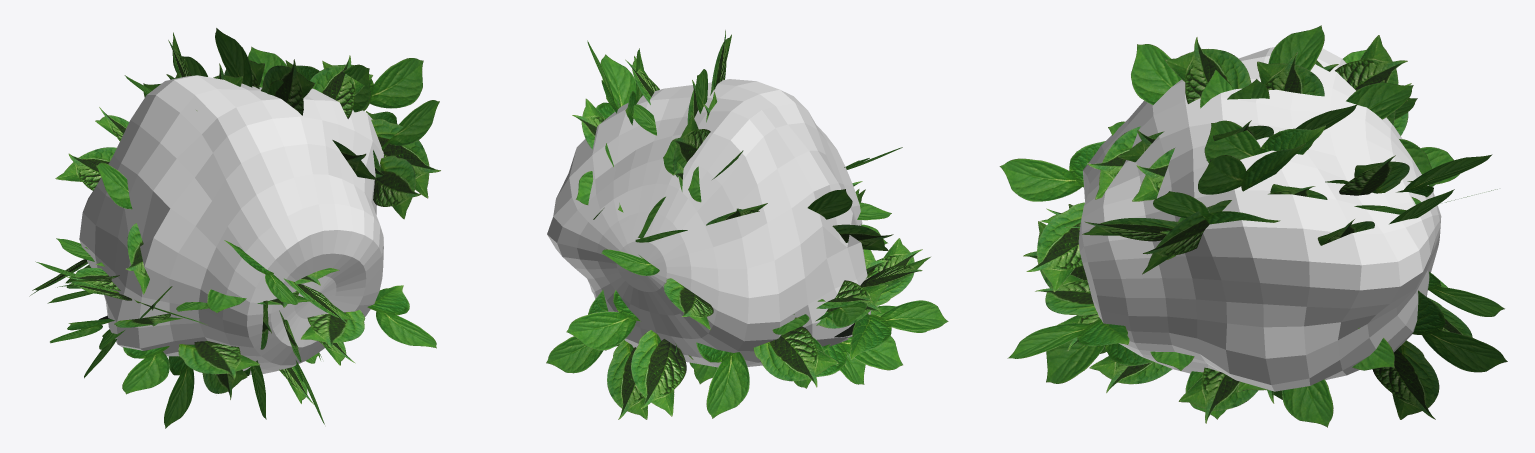
The model's file is куст 1,3ум.fbx.
3 renders of one model, left to right at view 1: azimuth 30°, elevation 25°; view 2: azimuth 150°, elevation 25°; view 3: azimuth 270°, elevation 25°, orthographic. The views are drawn at different scales.
Parts seen in each view (by area): view 1: Сфера, Сфера|Плоскость|Dupli|; view 2: Сфера, Сфера|Плоскость|Dupli|; view 3: Сфера, Сфера|Плоскость|Dupli|.
Boxes of the visible parts, x1,y1,x2,y2 form: Сфера: (79,75,383,374); Сфера|Плоскость|Dupli|: (29,28,440,428); Сфера: (547,79,871,367); Сфера|Плоскость|Dupli|: (546,30,948,419); Сфера: (1078,47,1441,391); Сфера|Плоскость|Dupli|: (999,25,1507,427).
Bounding box in the file's own units: 1073 × 891 × 1042.
